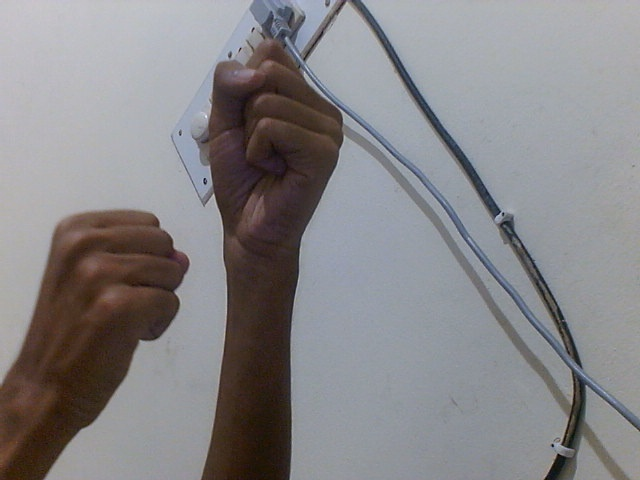hand: (10, 205, 193, 442), (202, 33, 349, 276)
